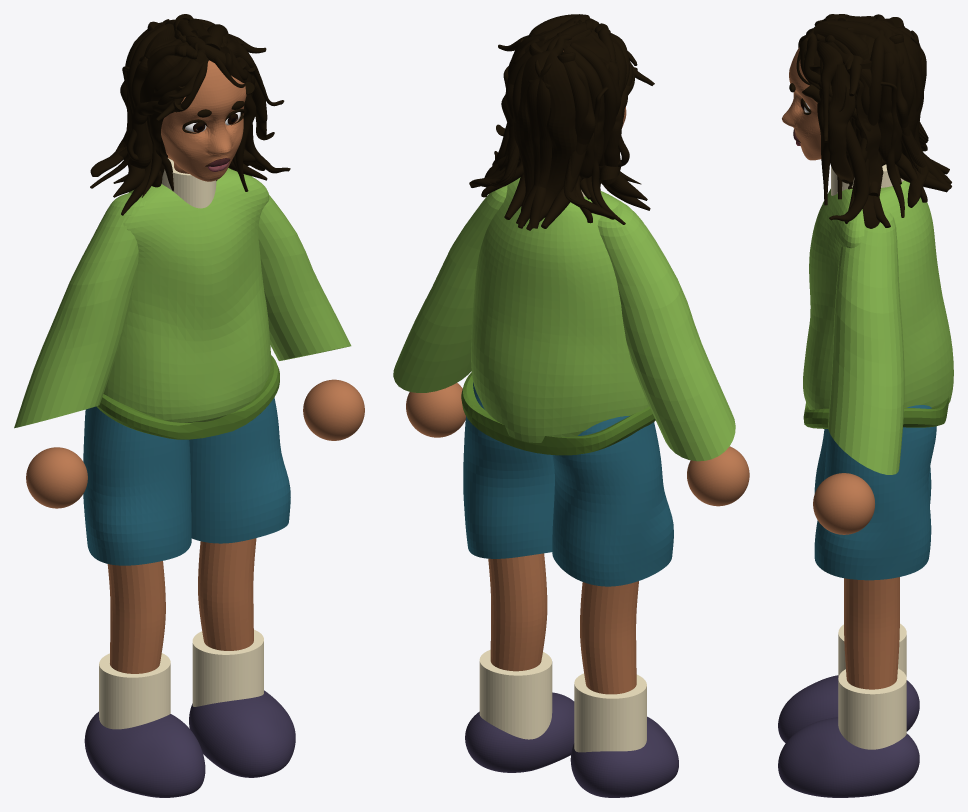
3 views of the same model, side by side, from view 1: azimuth 30°, elevation 25°; view 2: azimuth 150°, elevation 25°; view 3: azimuth 270°, elevation 25° (orthographic).
Visible parts, largest first — view 1: Lathe (×3), Tube (×17), Quad Sphere (×4), Cylinder (×4), Head; view 2: Tube (×19), Lathe (×3), Quad Sphere (×4), Cylinder (×3); view 3: Tube (×21), Lathe (×3), Quad Sphere (×3), Cylinder (×4), Head.
Part boxes in pixels (bbox=[...]): Lathe (×3): bbox=[83, 168, 290, 565]; Tube (×17): bbox=[14, 19, 351, 673]; Quad Sphere (×4): bbox=[26, 379, 364, 797]; Cylinder (×4): bbox=[96, 158, 279, 729]; Head: bbox=[161, 60, 246, 181]; Tube (×19): bbox=[393, 15, 735, 694]; Lathe (×3): bbox=[463, 177, 673, 586]; Quad Sphere (×4): bbox=[406, 383, 749, 797]; Cylinder (×3): bbox=[461, 372, 655, 752]; Tube (×21): bbox=[802, 16, 951, 689]; Lathe (×3): bbox=[803, 180, 953, 580]; Quad Sphere (×3): bbox=[778, 473, 919, 797]; Cylinder (×4): bbox=[803, 164, 948, 749]; Head: bbox=[782, 47, 821, 160].
Bounding box in the file's own units: 2.51 × 5.37 × 1.15.
